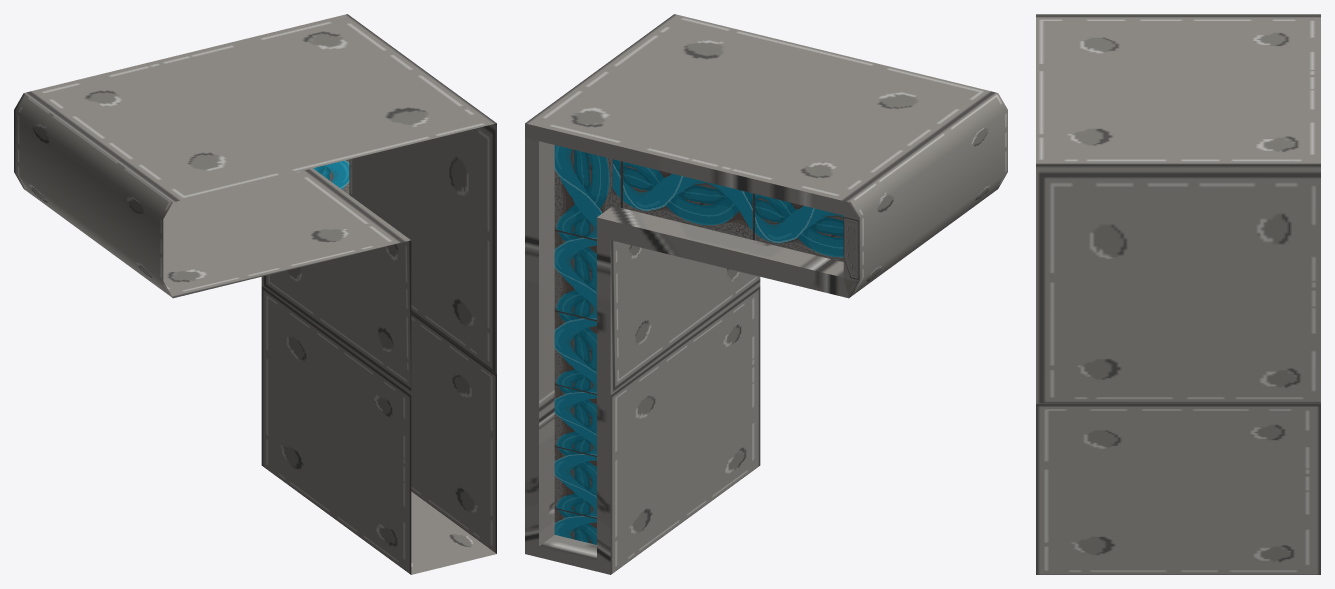
Rendered from loreconer.fbx.
3 views of the same model, side by side, from view 1: azimuth 30°, elevation 25°; view 2: azimuth 150°, elevation 25°; view 3: azimuth 270°, elevation 25° (orthographic). The views are drawn at different scales.
Visible parts, largest first — view 1: TopCornerWalll4; view 2: TopCornerWalll4; view 3: TopCornerWalll4.
Boxes of the visible parts, <box> form: TopCornerWalll4: <box>14,14,496,574</box>; TopCornerWalll4: <box>525,14,1007,574</box>; TopCornerWalll4: <box>1036,14,1320,574</box>.
Bounding box in the file's own units: 3.89 × 4.8 × 3.02.
